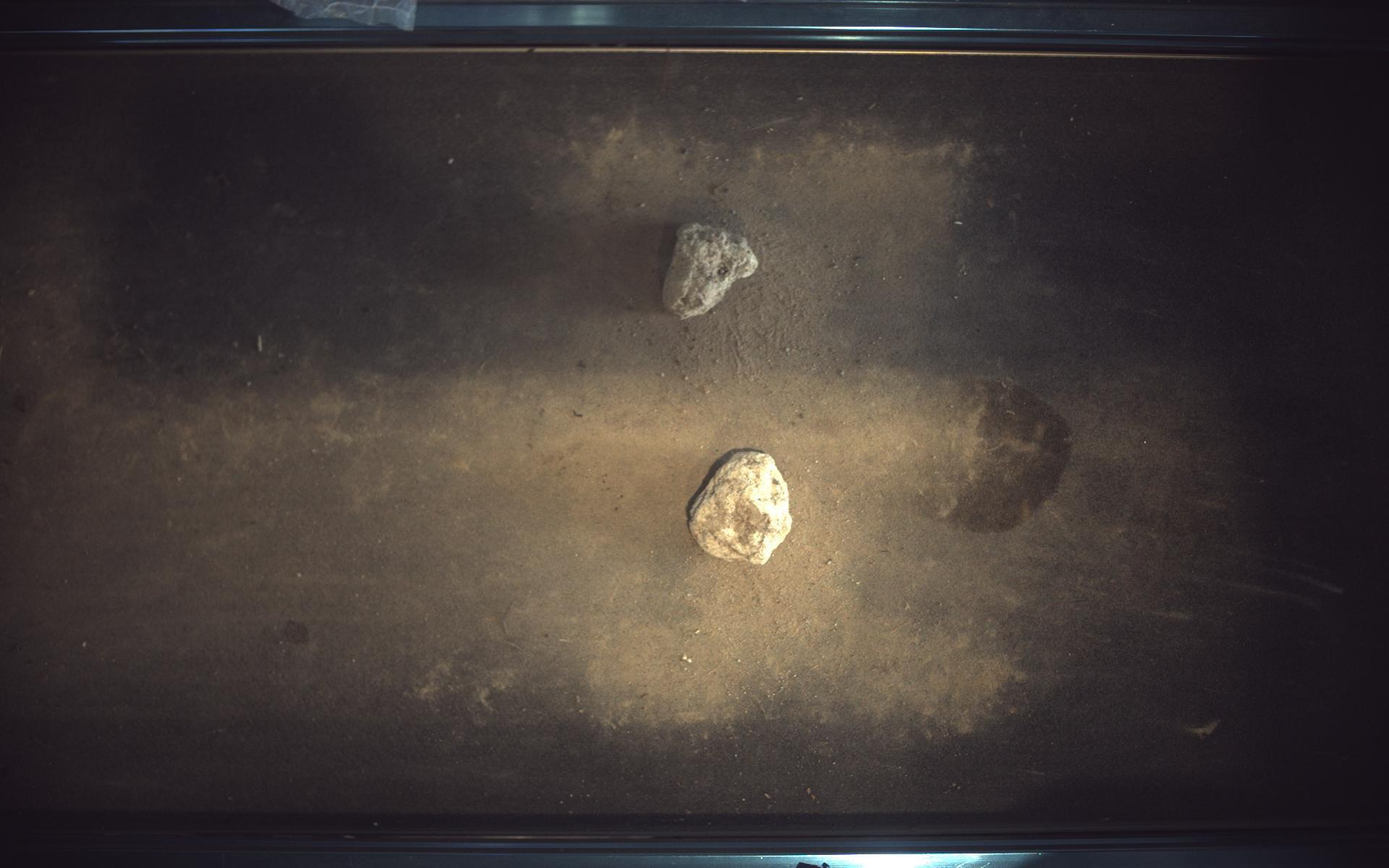stone: (690, 451, 794, 565), (663, 222, 760, 318)
